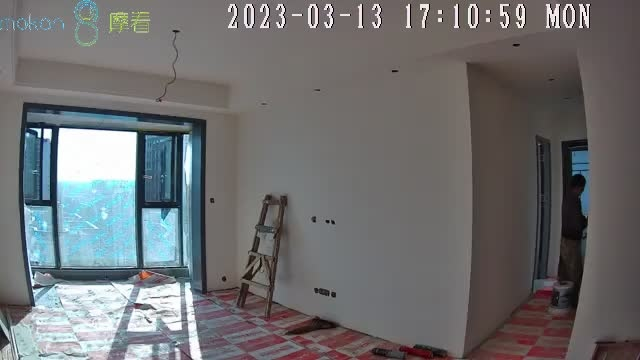people: (560, 174, 588, 309)
window: (22, 108, 193, 271)
